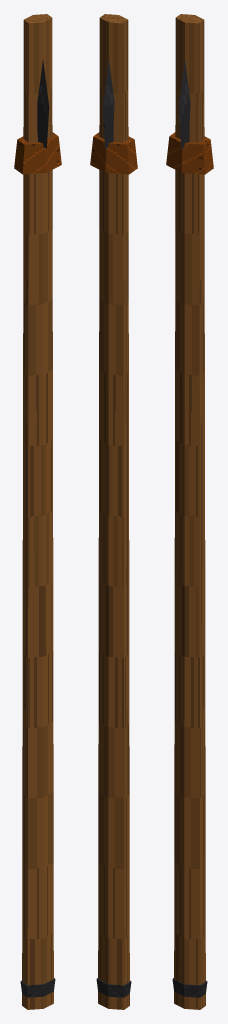
File: lanza.glb
3 views of the same model, side by side, from view 1: azimuth 30°, elevation 25°; view 2: azimuth 150°, elevation 25°; view 3: azimuth 330°, elevation 25° (orthographic).
Visible parts, largest first — view 1: asta, virola, punta, regaton; view 2: asta, virola, punta, regaton; view 3: asta, virola, punta, regaton.
Boxes of the visible parts, left/top/right/bottom form: asta: left=22, top=14, right=53, bottom=1009; virola: left=14, top=132, right=61, bottom=174; punta: left=37, top=59, right=49, bottom=148; regaton: left=20, top=978, right=55, bottom=997; asta: left=98, top=14, right=129, bottom=1009; virola: left=90, top=132, right=137, bottom=174; punta: left=102, top=59, right=114, bottom=148; regaton: left=96, top=978, right=131, bottom=997; asta: left=174, top=14, right=205, bottom=1009; virola: left=166, top=132, right=213, bottom=174; punta: left=178, top=59, right=190, bottom=148; regaton: left=172, top=978, right=207, bottom=997.
Size of the model in its own units: 0.1 by 2.4 by 0.1.
1 material, 1 textured.
